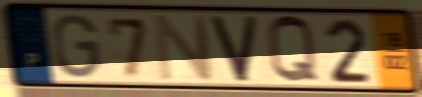2: (322, 16, 374, 86)
7: (104, 16, 151, 79)
G: (50, 12, 103, 81)
N: (151, 12, 217, 83)
Q: (264, 13, 323, 87)
V: (207, 14, 260, 84)
